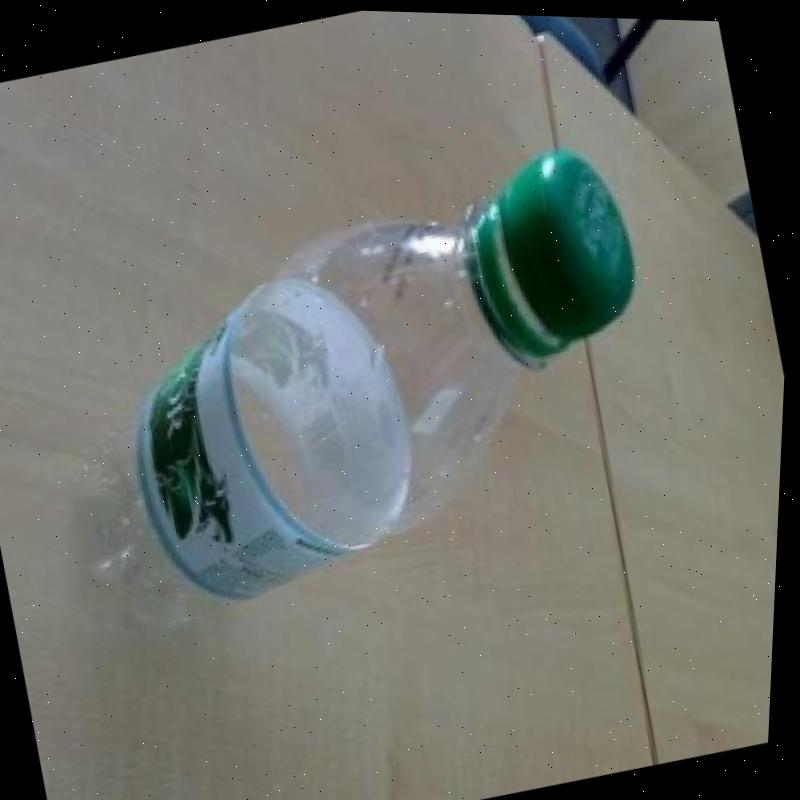botella: (21, 123, 704, 664)
